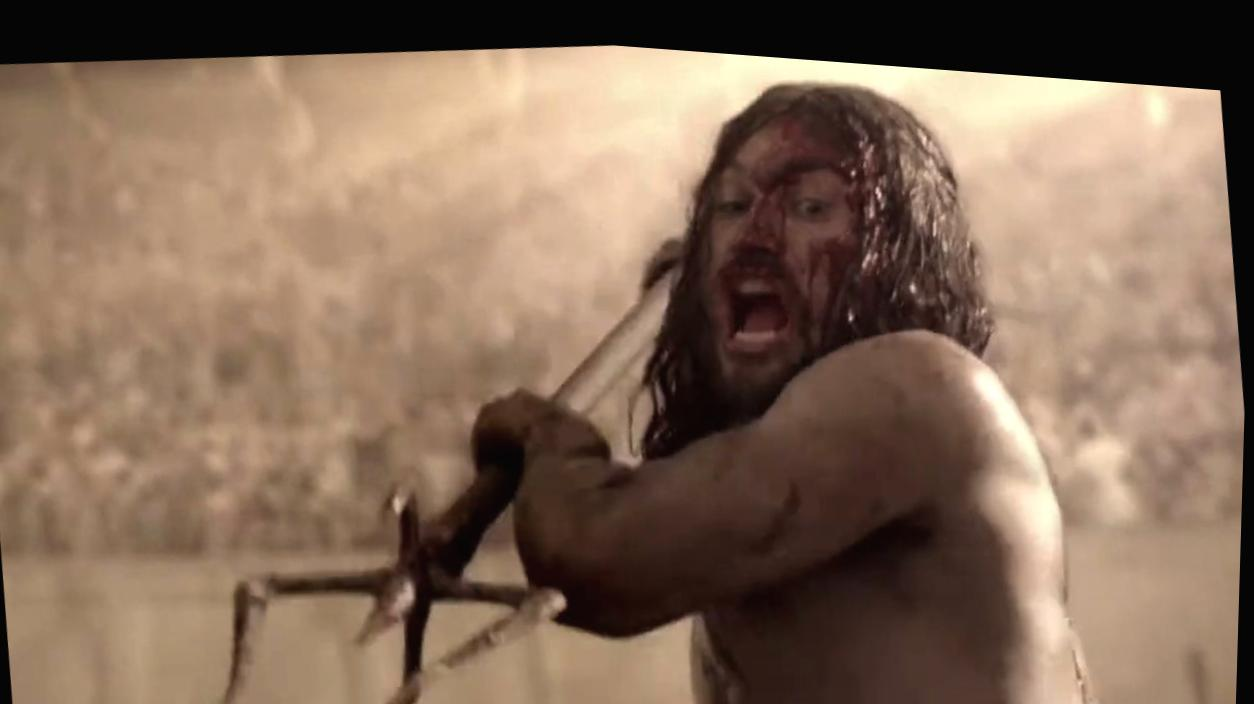Fire: (715, 104, 860, 389)
